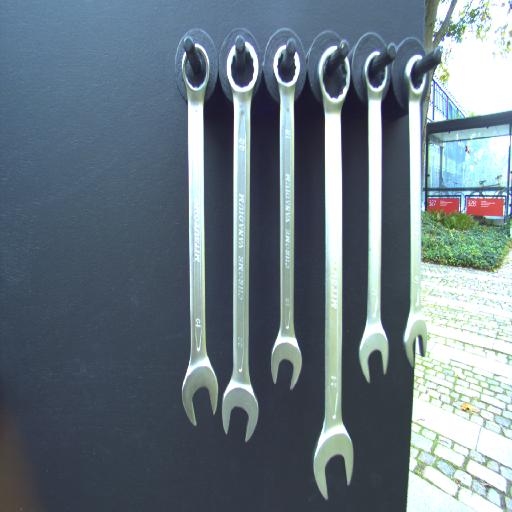bottom: (312, 425, 356, 500), (178, 354, 219, 426), (221, 375, 258, 443), (356, 325, 390, 385), (271, 329, 302, 392), (403, 308, 430, 371)
top: (223, 38, 261, 102), (317, 43, 351, 110), (179, 42, 212, 97), (271, 43, 304, 93), (362, 50, 389, 99), (403, 53, 428, 102)
